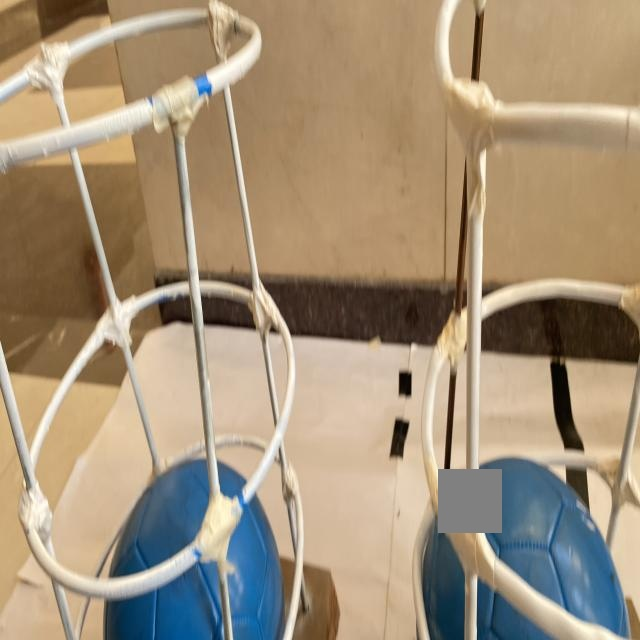blue_ball: (425, 452, 626, 640), (103, 457, 286, 640)
silo: (0, 11, 314, 639), (409, 0, 640, 640)
